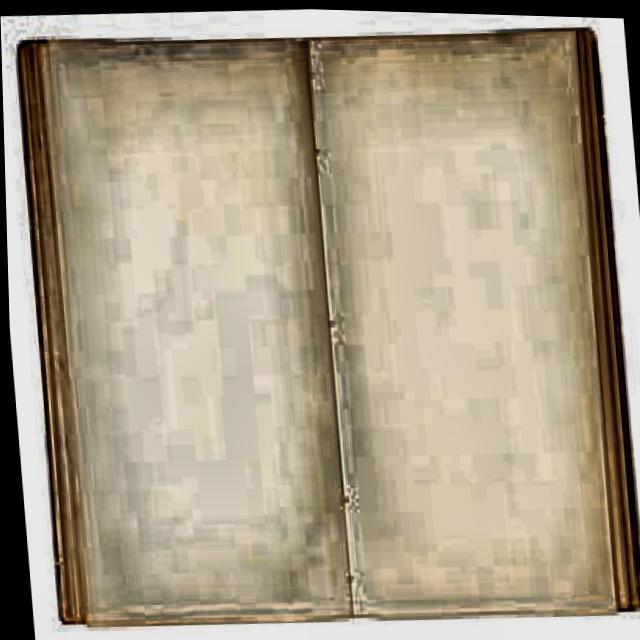Paper: (13, 3, 640, 640), (302, 15, 613, 622), (40, 22, 346, 630)
